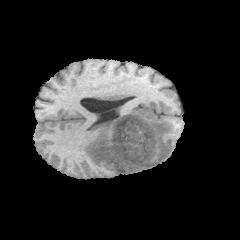glioma: (84, 109, 174, 173)
